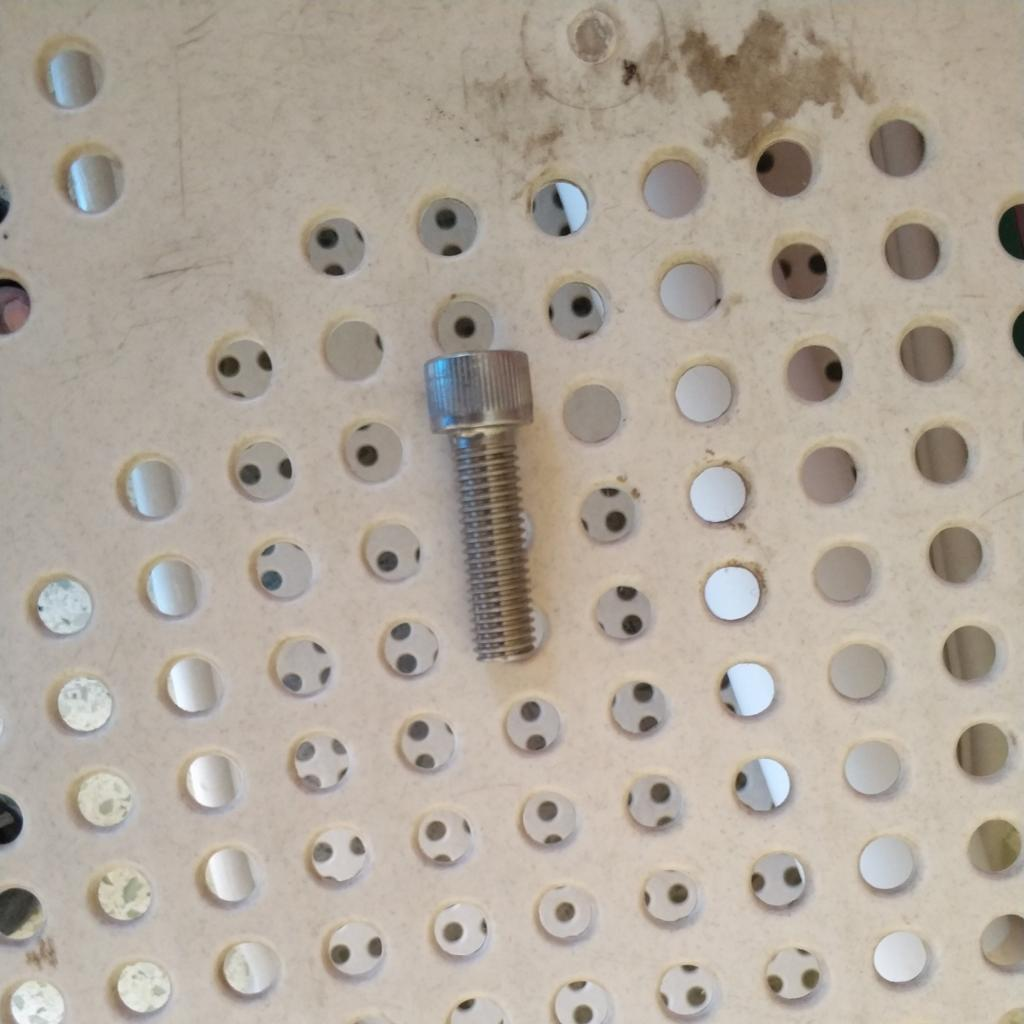screwtype1silver: (409, 344, 552, 662)
